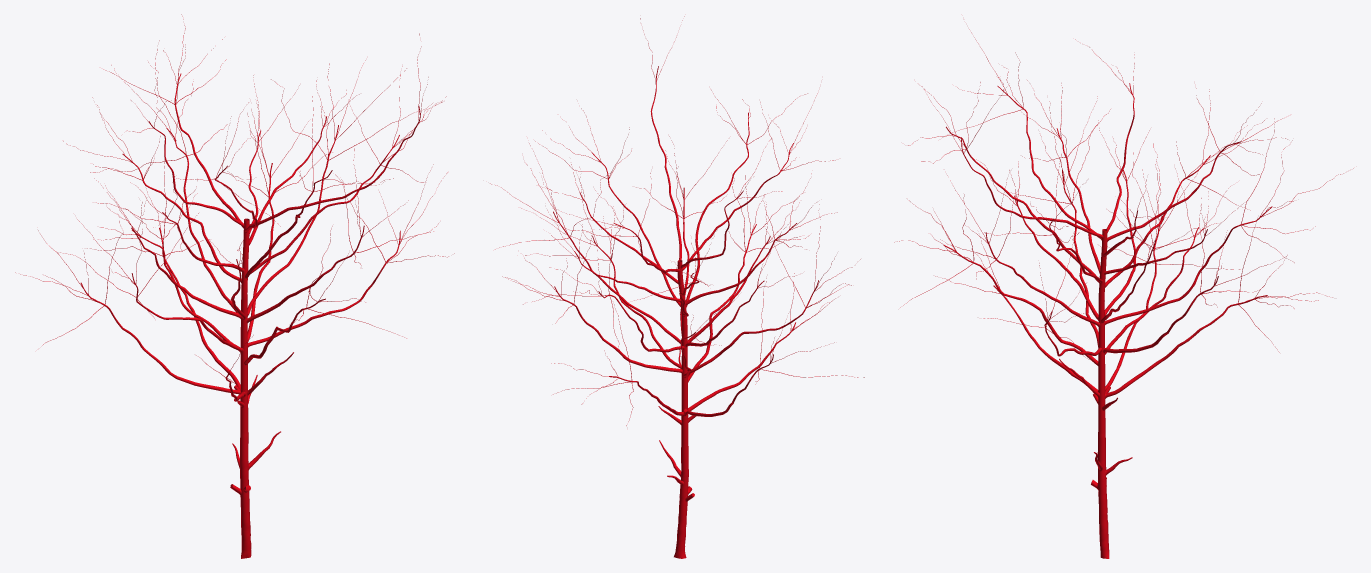
File: LOD0Arbre2.gltf
3 renders of one model, left to right at view 1: azimuth 30°, elevation 25°; view 2: azimuth 150°, elevation 25°; view 3: azimuth 270°, elevation 25°, orthographic. The views are drawn at different scales.
Visible parts, largest first — view 1: grand_arbre3_LOD0; view 2: grand_arbre3_LOD0; view 3: grand_arbre3_LOD0.
Part boxes in pixels (bbox=[...]): grand_arbre3_LOD0: bbox=[15, 14, 454, 558]; grand_arbre3_LOD0: bbox=[490, 16, 864, 558]; grand_arbre3_LOD0: bbox=[894, 29, 1353, 558].
Size of the model in its own units: 18.98 by 24.35 by 19.38.
